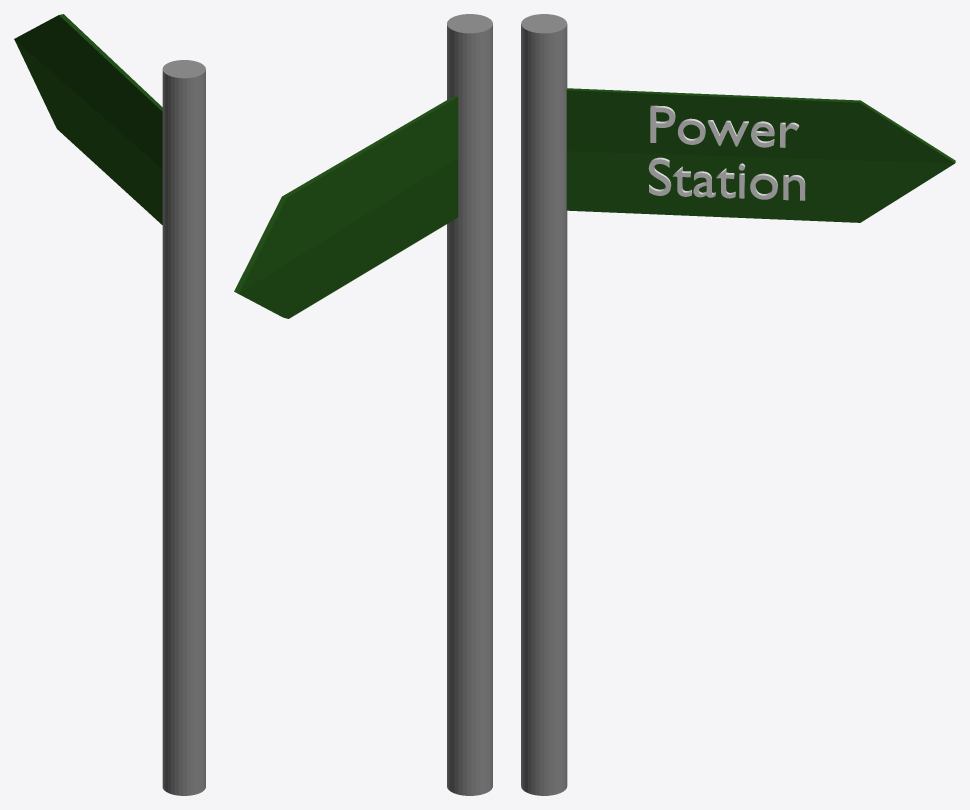
Rendered from Sign.fbx.
The picture shows the model from 3 angles, left to right: view 1: azimuth 30°, elevation 25°; view 2: azimuth 150°, elevation 25°; view 3: azimuth 270°, elevation 25°; orthographic projection. The views are drawn at different scales.
Parts seen in each view (by area): view 1: Cylinder; view 2: Cylinder; view 3: Cylinder, Text.
Boxes of the visible parts, x1,y1,x2,y2 form: Cylinder: (14, 14, 205, 795); Cylinder: (234, 14, 492, 795); Cylinder: (521, 14, 955, 795); Text: (648, 105, 805, 200).
Bounding box in the file's own units: 252 × 3650 × 1886.
